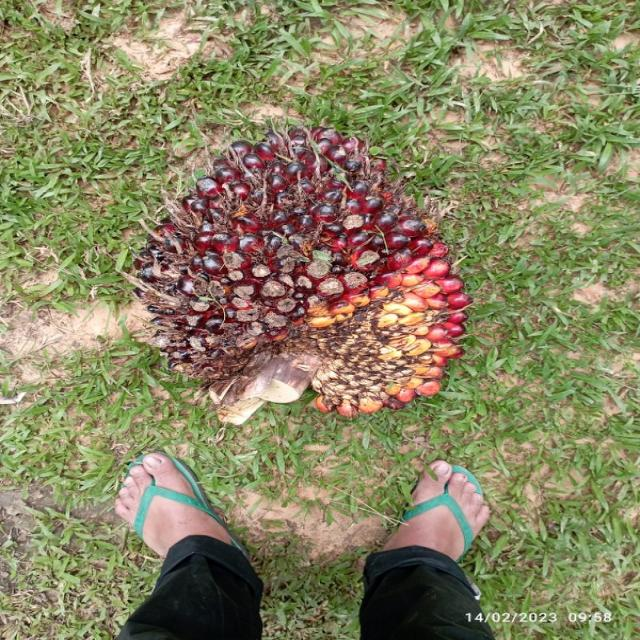fraksi 1: (100, 91, 521, 453)
